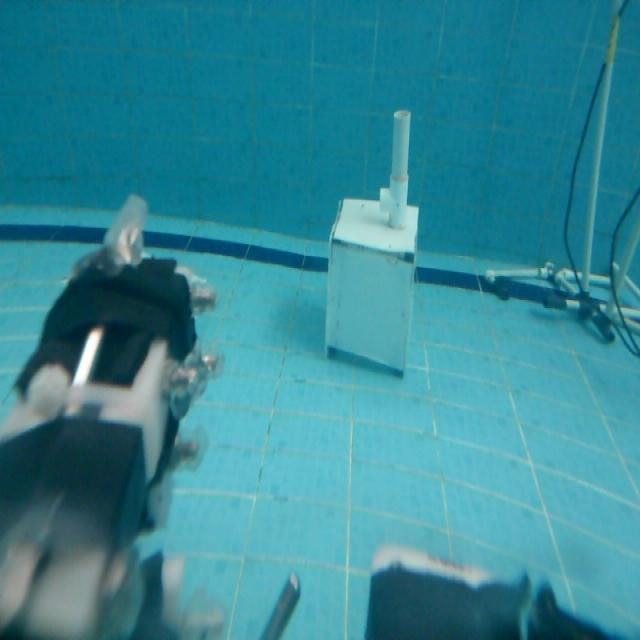Cube: (322, 192, 420, 376)
